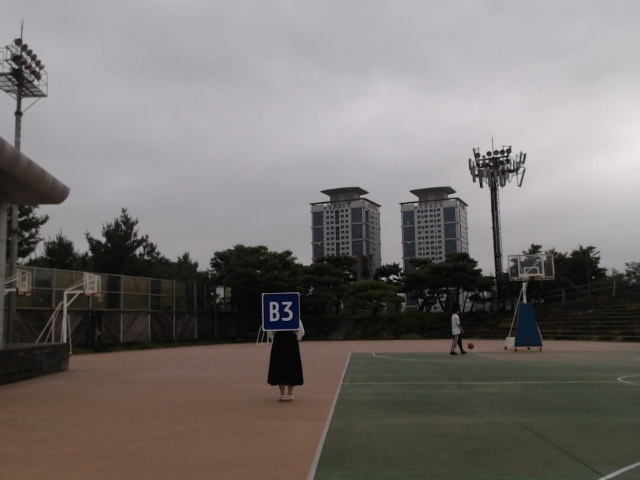delivery_b3: (261, 292, 300, 330)
